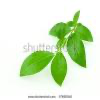Blueberry leaf: (18, 48, 56, 82), (65, 32, 88, 70), (51, 49, 68, 88), (73, 25, 95, 45), (55, 20, 66, 45)
